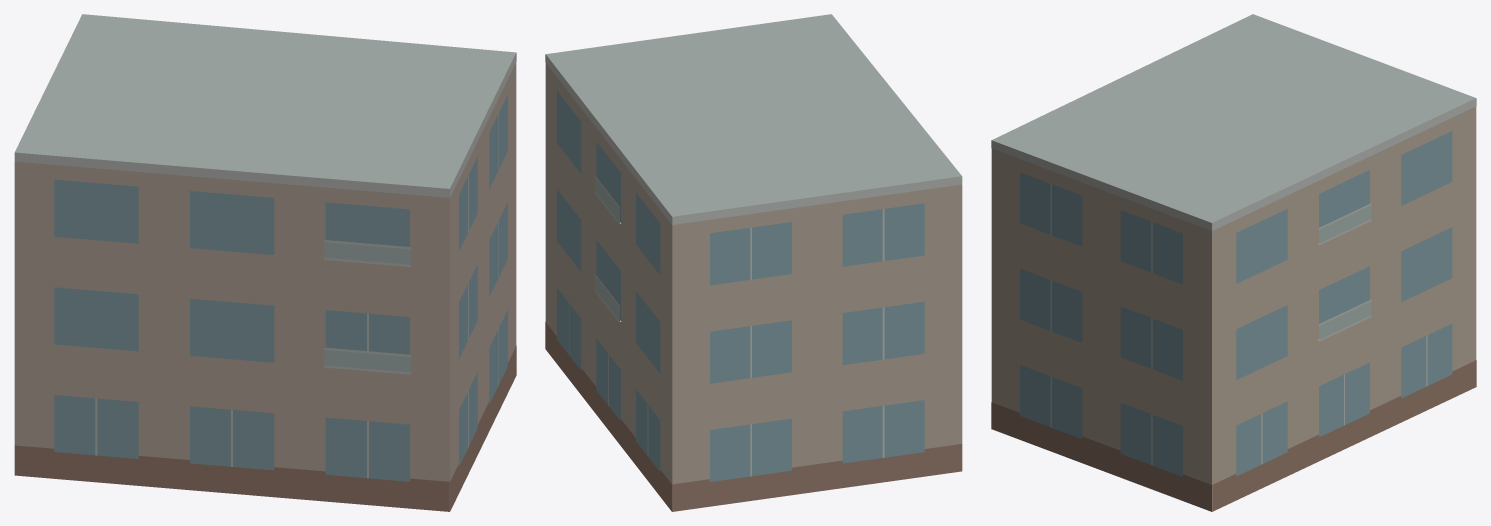
File: survey-upis-32777522.glb
3 renders of one model, left to right at view 1: azimuth 30°, elevation 25°; view 2: azimuth 150°, elevation 25°; view 3: azimuth 270°, elevation 25°, orthographic. The views are drawn at different scales.
Parts seen in each view (by area): view 1: survey-upis-32777522.tmp; view 2: survey-upis-32777522.tmp; view 3: survey-upis-32777522.tmp.
Part boxes in pixels (left/top/right/bottom): survey-upis-32777522.tmp: left=14, top=14, right=516, bottom=511; survey-upis-32777522.tmp: left=545, top=14, right=962, bottom=511; survey-upis-32777522.tmp: left=991, top=14, right=1476, bottom=511.
Bounding box in the file's own units: 13.51 × 8.7 × 13.25.
